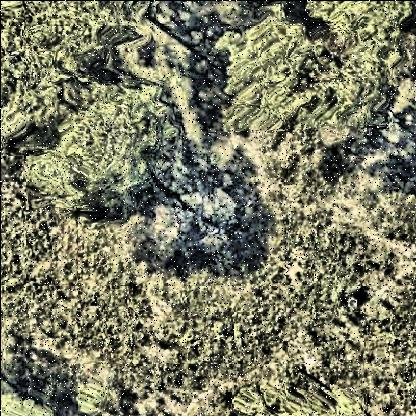tree-top: (4, 2, 156, 150), (43, 84, 179, 226), (219, 13, 323, 142), (226, 382, 367, 416), (75, 382, 129, 416)
